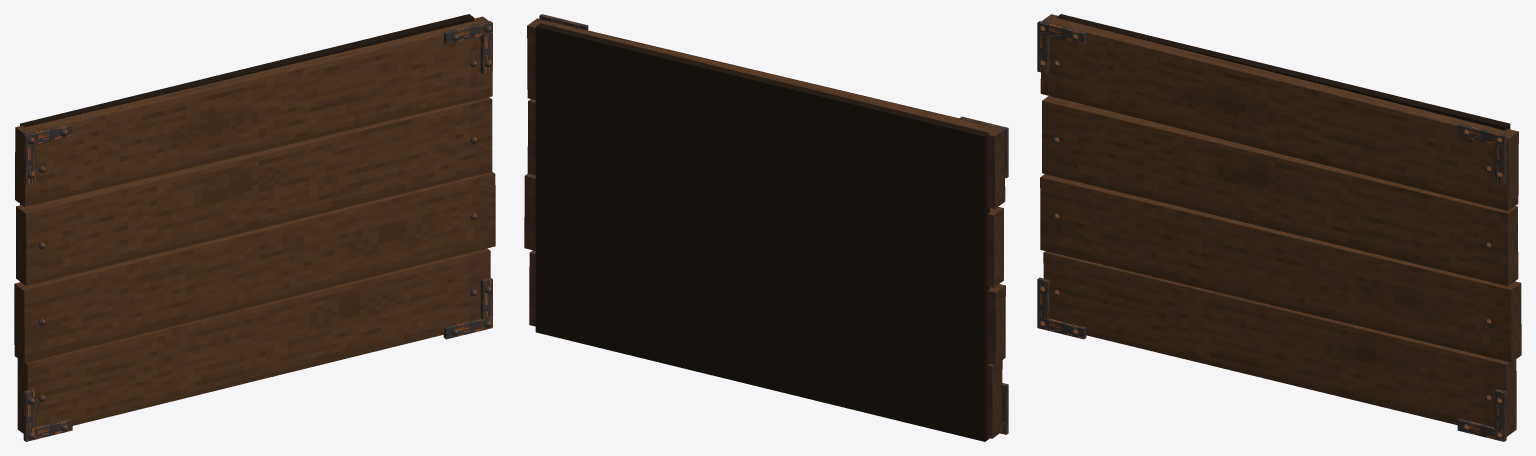
File: letrero-madera.glb
The picture shows the model from 3 angles, left to right: view 1: azimuth 30°, elevation 25°; view 2: azimuth 150°, elevation 25°; view 3: azimuth 330°, elevation 25°; orthographic projection.
Visible parts, largest first — view 1: letrero-madera; view 2: letrero-madera; view 3: letrero-madera.
Part boxes in pixels (box(x1,y1,x2,y2)): letrero-madera: box(14, 14, 495, 441); letrero-madera: box(524, 14, 1008, 441); letrero-madera: box(1037, 14, 1521, 441).
Bounding box in the file's own units: 1.62 × 1 × 0.099.
7 materials, 6 textured.
